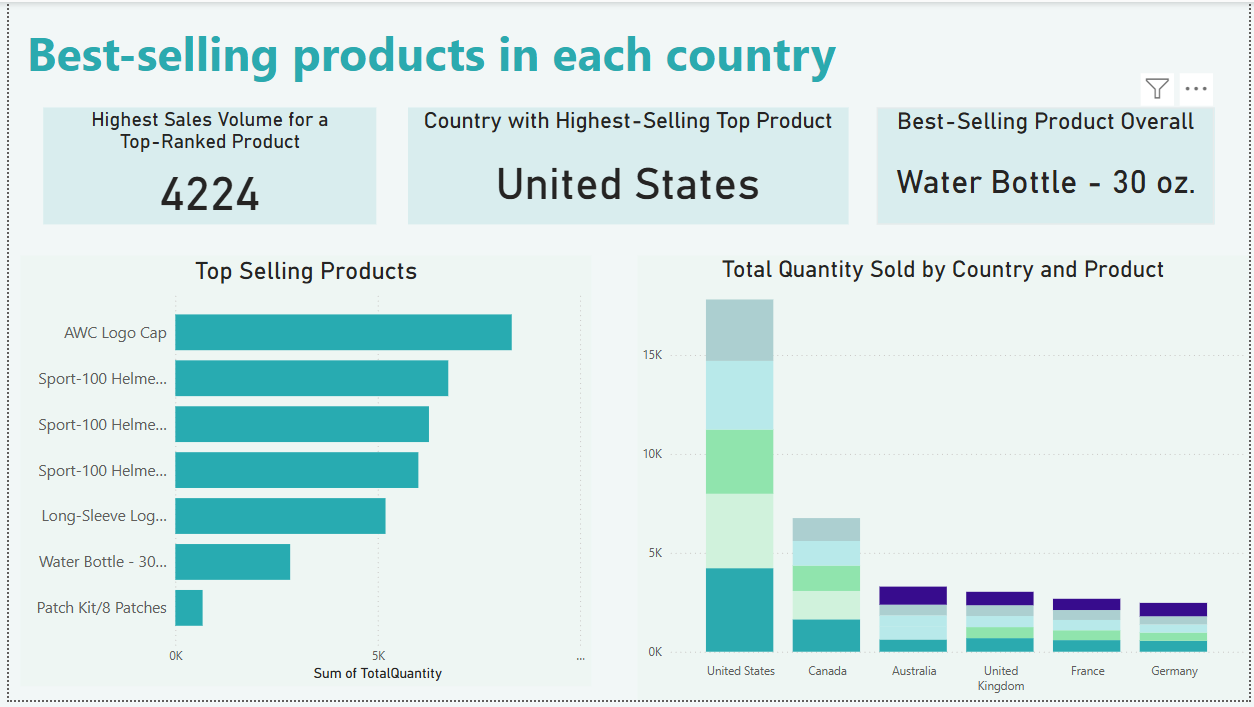

What the dashboard file says about the page in this screenshot:
{"tool":"powerbi","page":{"name":"Top 5 best-selling products in each country ","canvas":[1280,720],"ordinal":4},"visuals":[{"type":"columnChart","title":"Total Quantity Sold by Country and Product","fields":{"Category":["Top 5 best-selling products in each country clean.Country"],"Series":["Top 5 best-selling products in each country clean.ProductName"],"Y":["Sum(Top 5 best-selling products in each country clean.TotalQuantity)"]},"box":[648.6,261.8,631,458.9],"z":0},{"type":"clusteredBarChart","title":" Top Selling Products","fields":{"Y":["Sum(Top 5 best-selling products in each country clean.TotalQuantity)"],"Category":["Top 5 best-selling products in each country clean.ProductName"]},"box":[11.8,261.8,589.8,444.2],"z":1000},{"type":"card","title":" Highest Sales Volume for a Top-Ranked Product","fields":{"Values":["Top 5 best-selling products in each country clean.TopCountry"]},"box":[35.3,108.8,344.2,120.6],"z":2000},{"type":"card","title":" Best-Selling Product Overall","fields":{"Values":["Top 5 best-selling products in each country clean.TopProduct"]},"box":[895.7,108.8,348.6,120.6],"z":3000},{"type":"textbox","box":[0,14.7,907.5,94.1],"z":5000},{"type":"card","title":" Country with Highest-Selling Top Product","fields":{"Values":["Top 5 best-selling products in each country clean.TopSellingCountry"]},"box":[411.8,108.8,454.5,120.6],"z":5001}]}

Visuals, with their boxes in screenshot pixels (x1, y1, x2, y2), scaled from the page's 1280x720 canvas onto the 1254x707 screenshot:
"Total Quantity Sold by Country and Product" columnChart: left=635, top=257, right=1253, bottom=706
" Top Selling Products" clusteredBarChart: left=12, top=257, right=589, bottom=693
" Highest Sales Volume for a Top-Ranked Product" card: left=35, top=107, right=372, bottom=225
" Best-Selling Product Overall" card: left=878, top=107, right=1219, bottom=225
textbox: left=0, top=14, right=889, bottom=107
" Country with Highest-Selling Top Product" card: left=403, top=107, right=849, bottom=225
